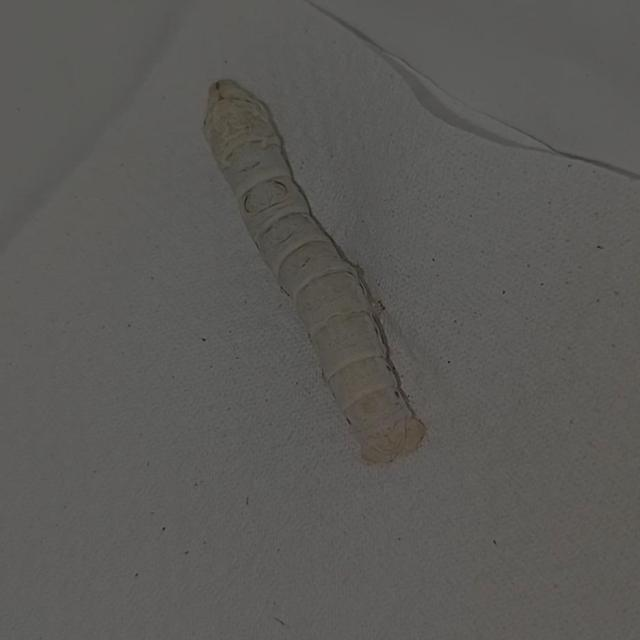Healthy: (178, 58, 474, 525)
